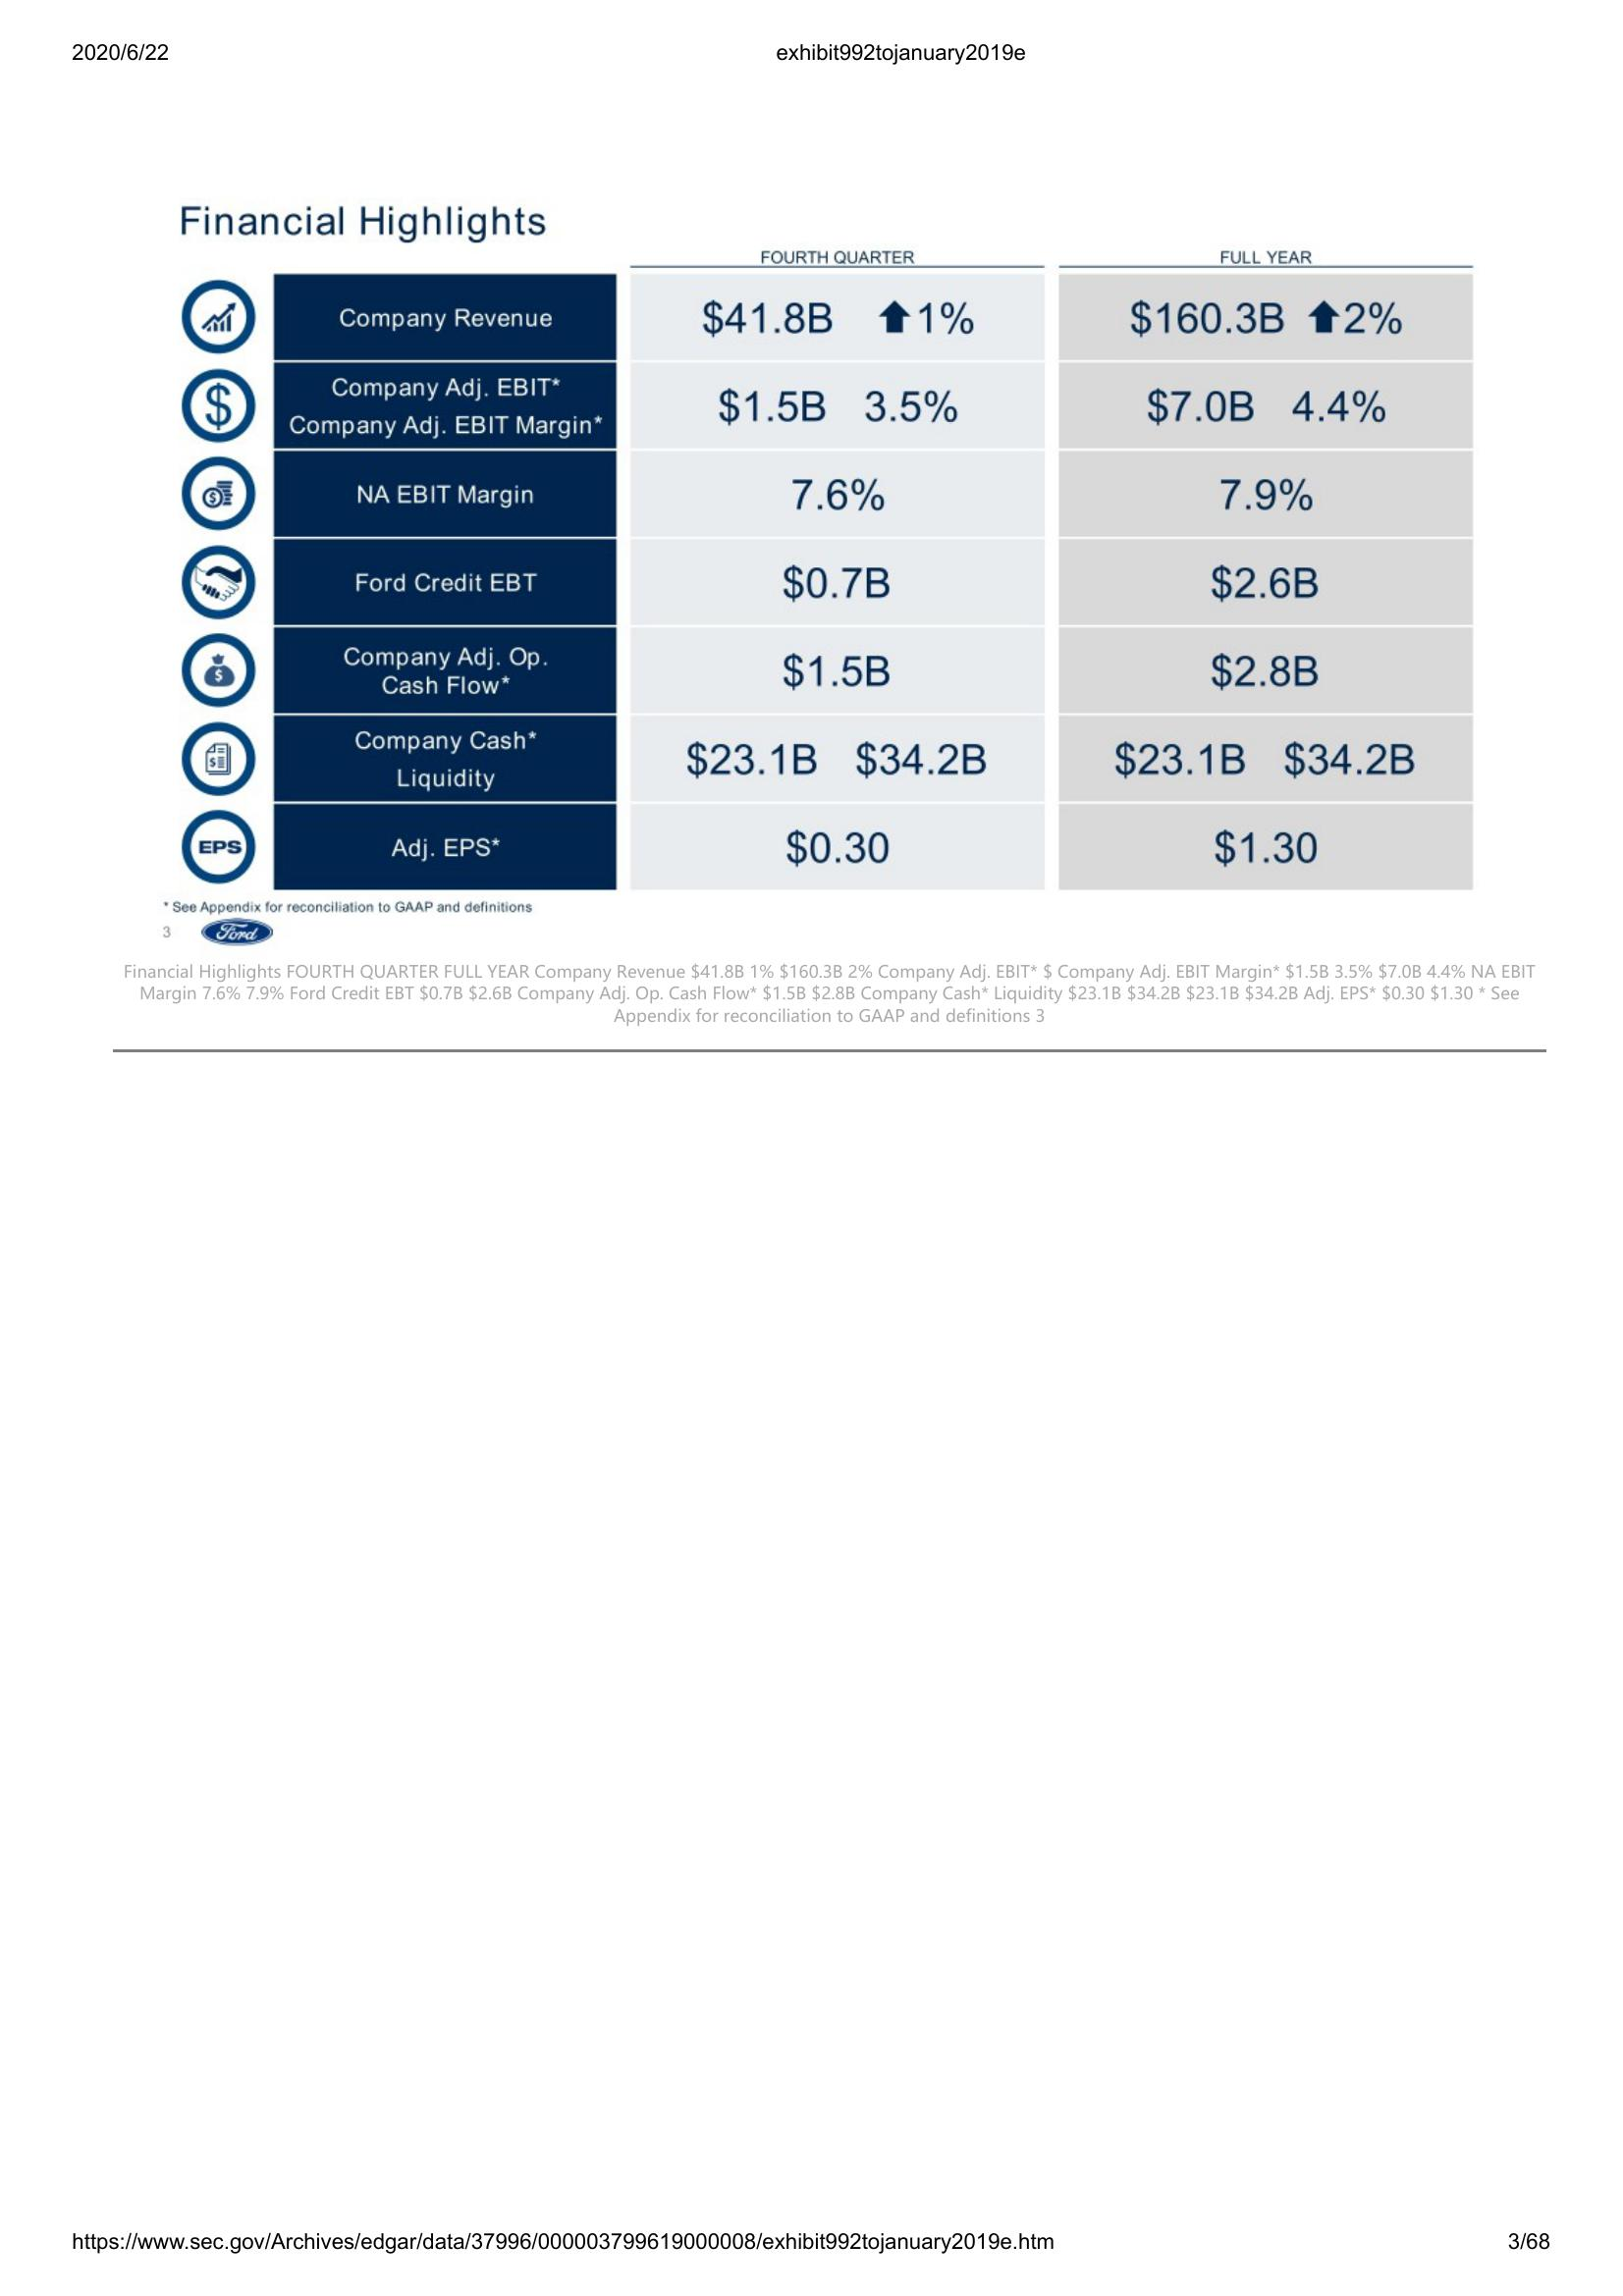table: (270, 248, 1470, 893)
